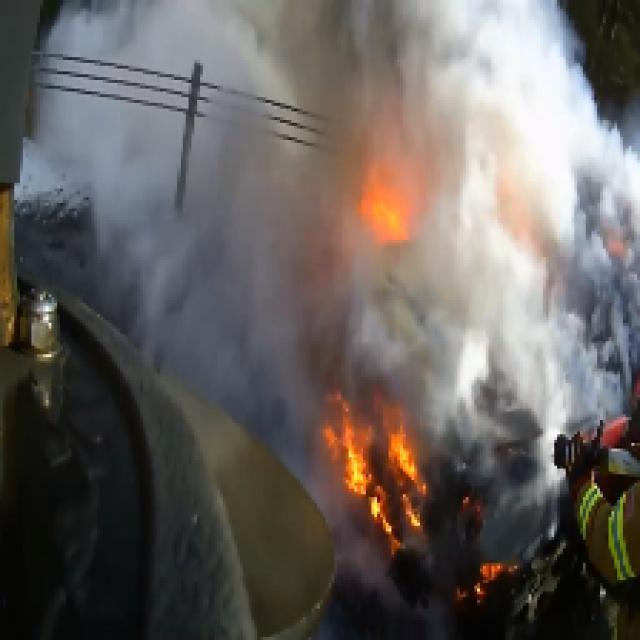Fire: (277, 366, 594, 594), (346, 157, 426, 246)
Smoke: (25, 0, 640, 403)
